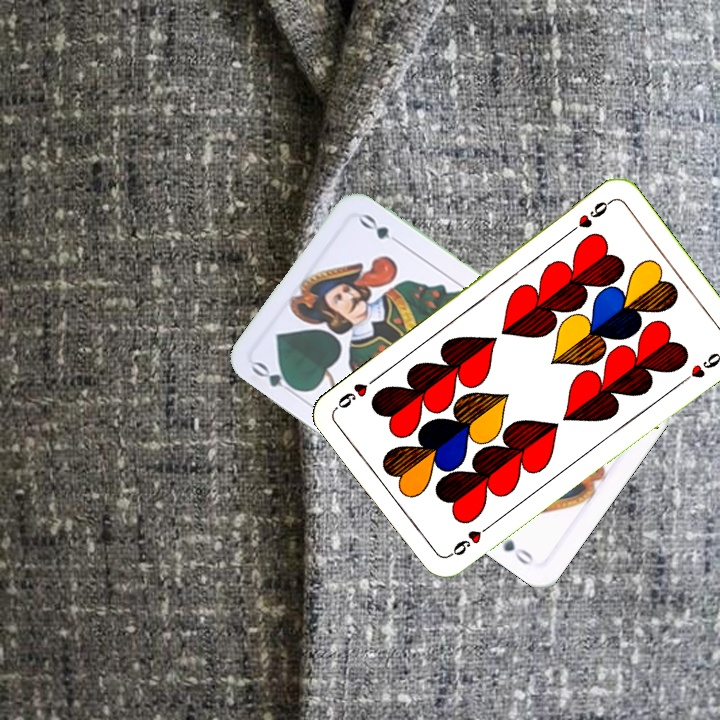GO: (248, 357, 304, 400)
H9: (564, 196, 615, 237), (444, 519, 496, 559)
